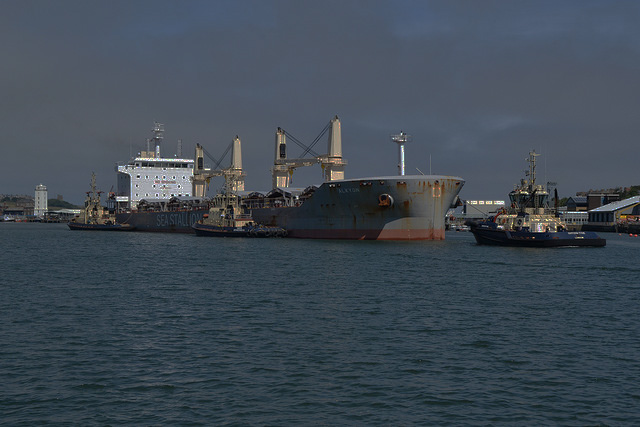bulk carrier: (112, 121, 467, 240)
tug_boat: (468, 150, 606, 250), (188, 168, 284, 238), (63, 173, 124, 228)
